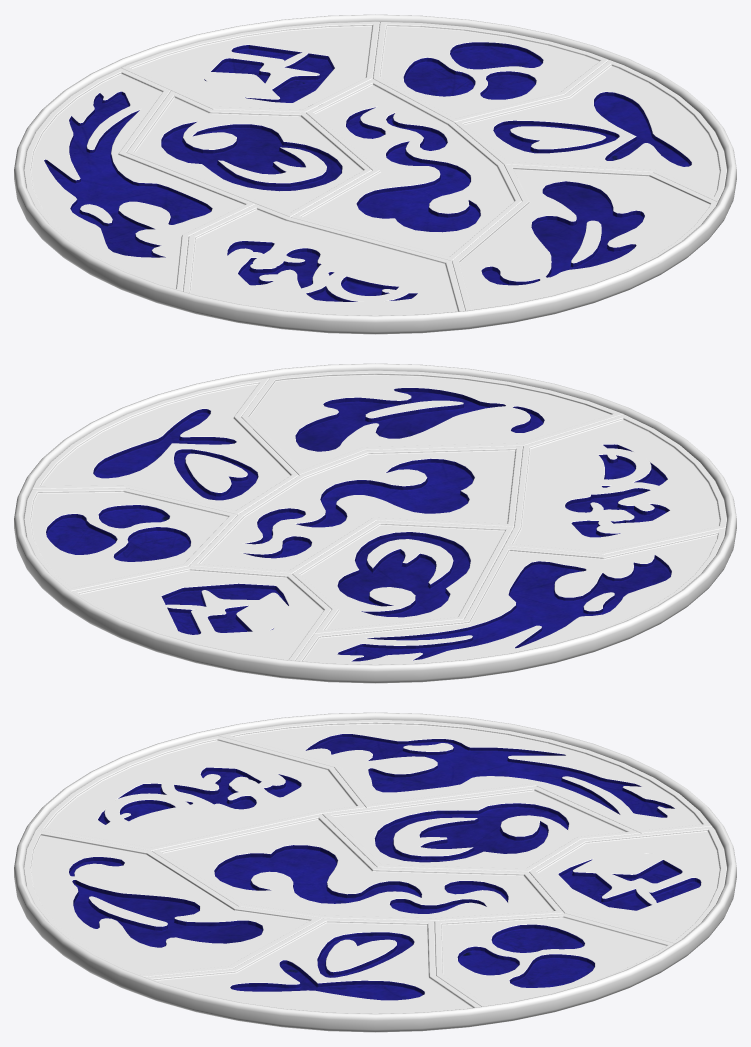
File: medallero.glb
The picture shows the model from 3 angles, top to bottom: view 1: azimuth 30°, elevation 25°; view 2: azimuth 150°, elevation 25°; view 3: azimuth 270°, elevation 25°; orthographic projection.
Visible parts, largest first — view 1: Medalla_Dragon, Medalla_Planta, Medalla_Fuego, Aro_Base, Medalla_Hada, Medalla_Siniestro, Medalla_Fantasma, Medalla_Agua, Medalla_Lucha, Medalla_Hielo, Medalla_Roca; view 2: Medalla_Dragon, Medalla_Planta, Medalla_Fuego, Aro_Base, Medalla_Hada, Medalla_Siniestro, Medalla_Agua, Medalla_Fantasma, Medalla_Lucha, Medalla_Hielo, Medalla_Roca; view 3: Medalla_Dragon, Medalla_Planta, Medalla_Fuego, Aro_Base, Medalla_Hada, Medalla_Fantasma, Medalla_Siniestro, Medalla_Agua, Medalla_Lucha, Medalla_Roca, Medalla_Hielo.
Boxes of the visible parts, bbox=[...] form: Medalla_Dragon: bbox=[24, 68, 255, 291]; Medalla_Planta: bbox=[452, 164, 717, 310]; Medalla_Fuego: bbox=[291, 79, 521, 260]; Aro_Base: bbox=[14, 14, 736, 334]; Medalla_Hada: bbox=[454, 60, 726, 201]; Medalla_Siniestro: bbox=[126, 90, 371, 217]; Medalla_Fantasma: bbox=[184, 204, 463, 315]; Medalla_Agua: bbox=[373, 22, 608, 122]; Medalla_Lucha: bbox=[183, 204, 465, 315]; Medalla_Hielo: bbox=[122, 21, 379, 112]; Medalla_Roca: bbox=[124, 22, 375, 111]; Medalla_Dragon: bbox=[295, 528, 725, 664]; Medalla_Planta: bbox=[241, 370, 623, 475]; Medalla_Fuego: bbox=[189, 446, 522, 573]; Aro_Base: bbox=[14, 363, 736, 683]; Medalla_Hada: bbox=[32, 378, 298, 514]; Medalla_Siniestro: bbox=[292, 520, 513, 633]; Medalla_Agua: bbox=[24, 488, 237, 591]; Medalla_Fantasma: bbox=[509, 414, 725, 553]; Medalla_Lucha: bbox=[504, 414, 726, 554]; Medalla_Hielo: bbox=[71, 566, 331, 660]; Medalla_Roca: bbox=[79, 569, 330, 659]; Medalla_Dragon: bbox=[219, 719, 711, 833]; Medalla_Planta: bbox=[24, 830, 322, 976]; Medalla_Fuego: bbox=[152, 814, 563, 921]; Aro_Base: bbox=[14, 712, 736, 1032]; Medalla_Hada: bbox=[145, 918, 480, 1013]; Medalla_Fantasma: bbox=[38, 736, 364, 850]; Medalla_Siniestro: bbox=[322, 786, 640, 871]; Medalla_Agua: bbox=[434, 913, 674, 1006]; Medalla_Lucha: bbox=[36, 736, 365, 851]; Medalla_Roca: bbox=[530, 829, 725, 941]; Medalla_Hielo: bbox=[529, 826, 726, 943].
Bounding box in the file's own units: 0.74 × 0.02 × 0.74.
21 materials, 10 textured.
